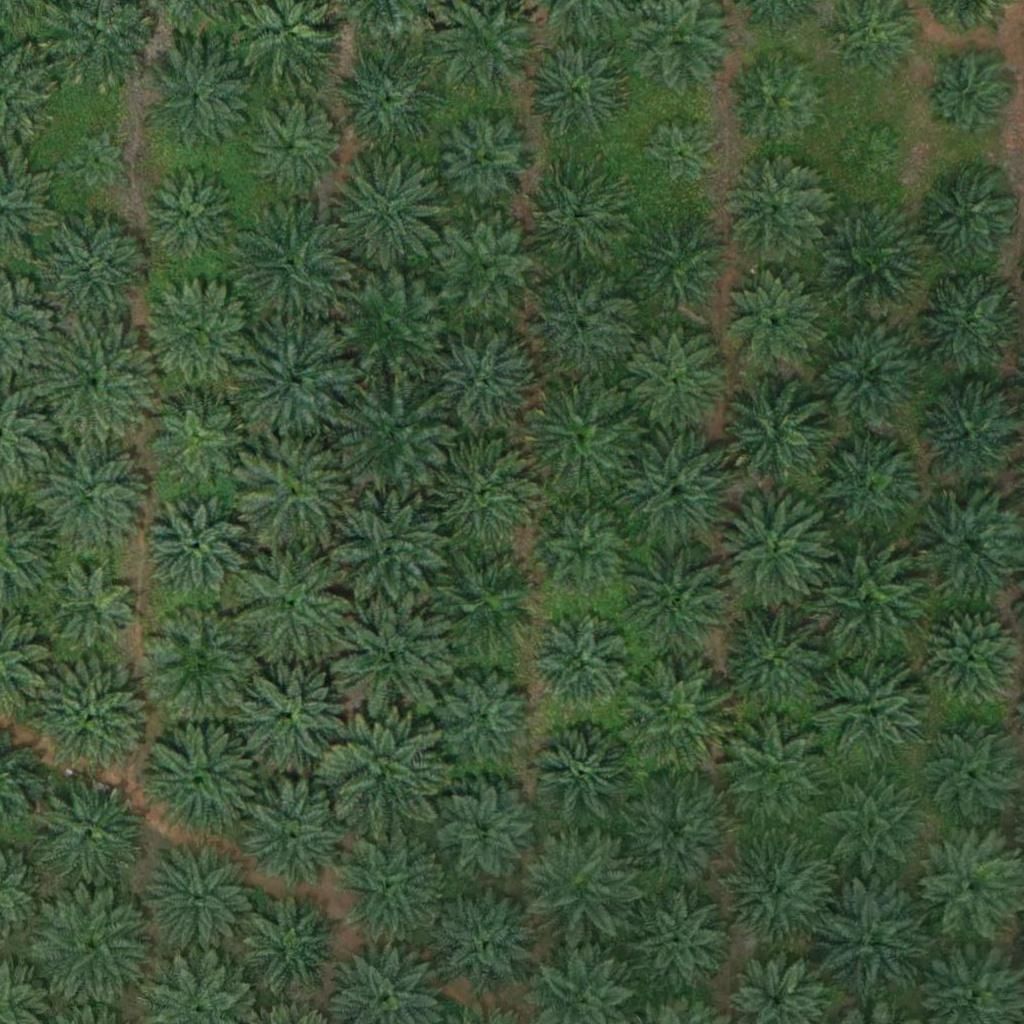Kelapa_Sawit: (330, 265, 443, 379), (236, 201, 349, 315), (142, 45, 255, 159), (337, 375, 450, 489), (622, 541, 735, 655), (720, 717, 833, 831), (813, 772, 926, 886), (815, 882, 928, 996), (723, 837, 836, 951), (236, 323, 349, 436), (36, 661, 149, 774), (146, 720, 259, 833), (237, 436, 350, 549), (332, 495, 445, 608), (334, 601, 447, 714), (328, 716, 441, 829), (526, 374, 639, 487), (623, 434, 736, 547), (717, 495, 830, 608), (719, 604, 832, 717), (142, 842, 255, 955), (33, 777, 146, 890), (38, 891, 151, 1004), (425, 326, 537, 440), (433, 434, 545, 548), (623, 666, 735, 780), (814, 199, 926, 312), (812, 321, 924, 434), (524, 271, 636, 384), (330, 39, 442, 152), (332, 151, 444, 264), (143, 278, 255, 391), (37, 212, 149, 325), (39, 325, 151, 438), (33, 443, 145, 556), (145, 606, 257, 719), (239, 548, 351, 661), (237, 654, 349, 767), (430, 549, 542, 662), (619, 775, 731, 888), (720, 375, 832, 488), (810, 428, 922, 541), (809, 544, 921, 657), (817, 658, 929, 771), (522, 829, 634, 942), (334, 833, 446, 946), (241, 778, 353, 891), (730, 49, 830, 150), (722, 157, 822, 258), (722, 268, 822, 369), (629, 213, 729, 314), (627, 329, 727, 430), (527, 36, 627, 137), (524, 169, 624, 270), (437, 113, 537, 214), (437, 216, 537, 317), (44, 561, 144, 662), (148, 383, 248, 484), (144, 494, 244, 595), (434, 666, 534, 767), (436, 785, 536, 886), (536, 727, 636, 828), (918, 383, 1018, 484), (921, 606, 1021, 707), (630, 892, 730, 993), (436, 889, 536, 990), (246, 895, 346, 996), (241, 95, 341, 195), (139, 164, 239, 264), (531, 614, 631, 714), (537, 511, 625, 599), (924, 52, 1011, 140), (640, 119, 715, 194), (837, 123, 899, 186), (66, 128, 128, 191)
